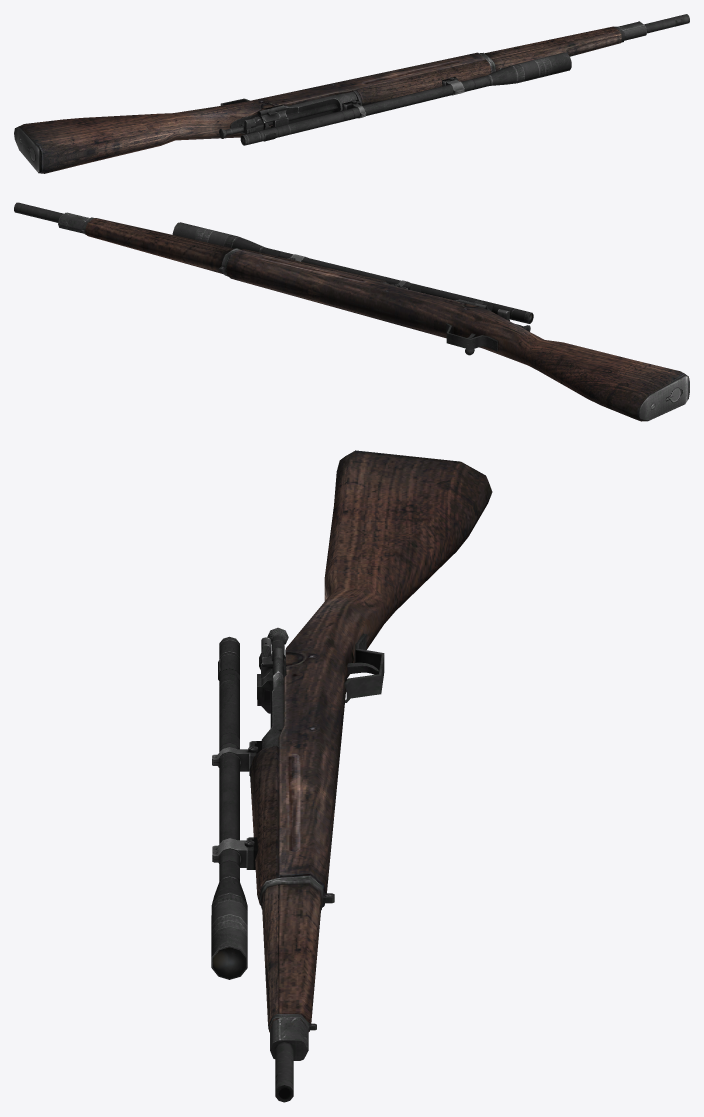
File: weapon_usa_springfield_rifle_scoped_LOD01.obj
3 renders of one model, top to bottom at view 1: azimuth 30°, elevation 25°; view 2: azimuth 150°, elevation 25°; view 3: azimuth 270°, elevation 25°, orthographic. The views are drawn at different scales.
Parts seen in each view (by area): view 1: TomGroup_2, TomGroup_1, TomGroup_0; view 2: TomGroup_2, TomGroup_0, TomGroup_1; view 3: TomGroup_2, TomGroup_1, TomGroup_0.
Boxes of the visible parts, x1,y1,x2,y2 form: TomGroup_2: (16, 26, 621, 173); TomGroup_1: (240, 52, 571, 145); TomGroup_0: (14, 14, 689, 172); TomGroup_2: (85, 218, 687, 421); TomGroup_0: (14, 202, 689, 420); TomGroup_1: (172, 222, 533, 323); TomGroup_2: (249, 450, 492, 1032); TomGroup_1: (211, 636, 261, 979); TomGroup_0: (257, 627, 384, 1102).
Size of the model in its own units: 127 by 7.86 by 24.4.
2 materials, 2 textured.
